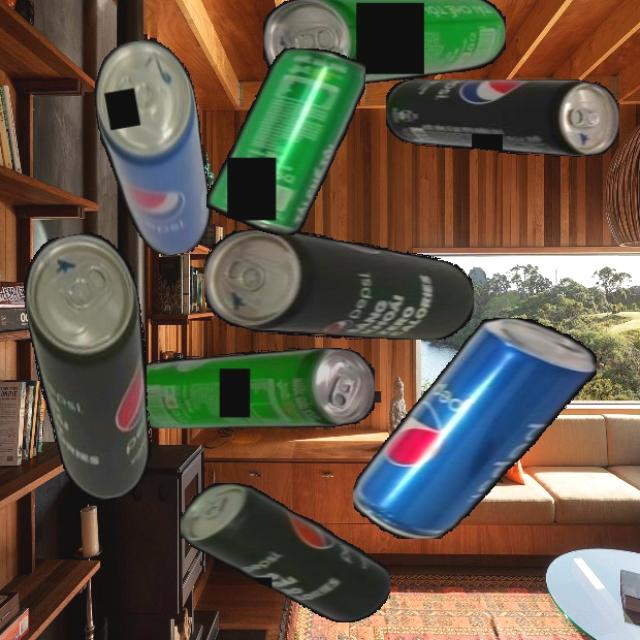debris: (353, 317, 597, 539), (15, 226, 172, 507), (86, 33, 221, 263), (204, 228, 474, 340), (206, 48, 366, 236), (180, 483, 390, 623), (263, 0, 506, 86), (127, 348, 375, 428), (385, 79, 619, 157)
